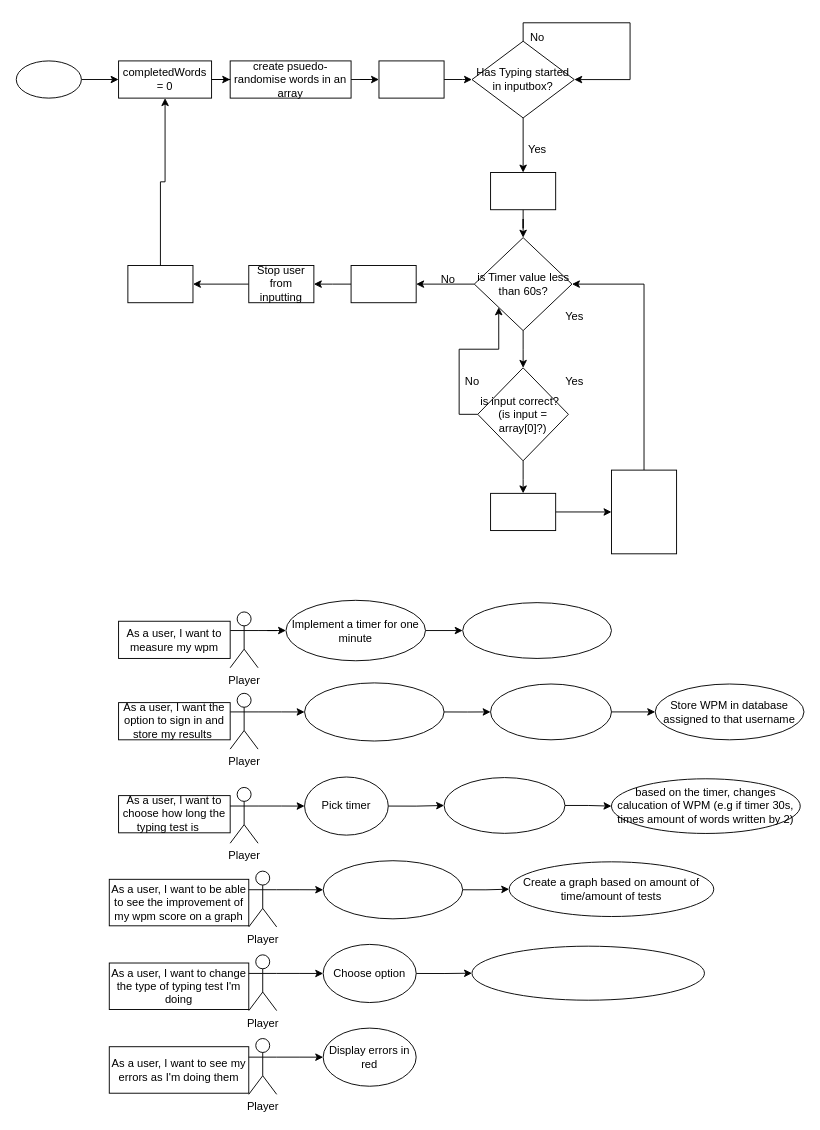
This 820x1130 diagram has some shape labels left out. The shapes that lost their labels are listed below. From the top down, each one's centre as x and y in pixels, then its label:
At point 48,79: "Start".
At point 411,79: "Display website (HTML)".
At point 523,191: "Start timer".
At point 160,284: "Calculate and display WPM".
At point 383,284: "End timer".
At point 523,511: "increment completed words".
At point 644,511: "Remove array[0] value from the array.".
At point 536,630: "Count amount of completed words written".
At point 374,711: "create account with username and password".
At point 550,711: "Store in database".
At point 504,805: "Start timer once typing test begins".
At point 392,889: "Access stored WPM results".
At point 587,972: "Display chosen typing test (e.g words, essay, easy, hard, medium)".
